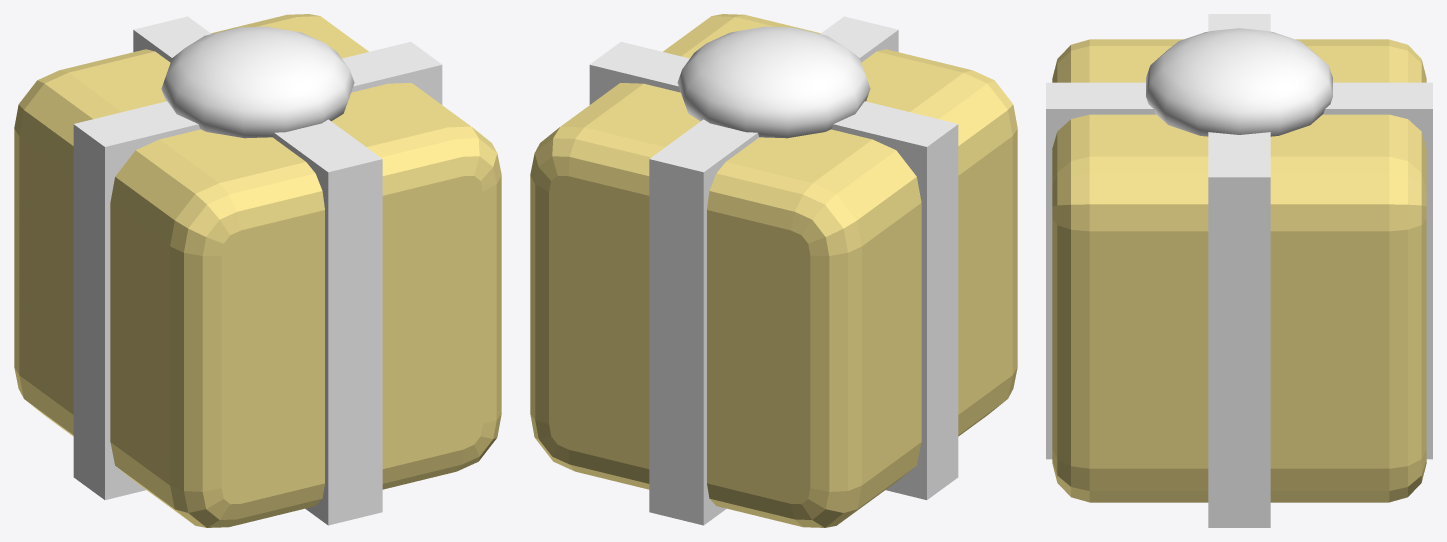
Rendered from box_golden.glb.
3 renders of one model, left to right at view 1: azimuth 30°, elevation 25°; view 2: azimuth 150°, elevation 25°; view 3: azimuth 270°, elevation 25°, orthographic.
Visible parts, largest first — view 1: box_golden; view 2: box_golden; view 3: box_golden.
Part boxes in pixels (x1=…): box_golden: x1=14, y1=14, x2=501, y2=527; box_golden: x1=530, y1=14, x2=1017, y2=527; box_golden: x1=1046, y1=14, x2=1432, y2=527.
Size of the model in its own units: 1.24 by 1.42 by 1.24.
